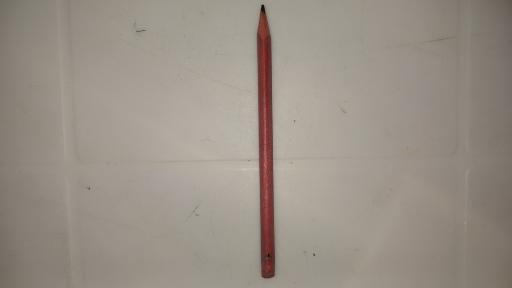Pencil: (256, 1, 275, 280)
